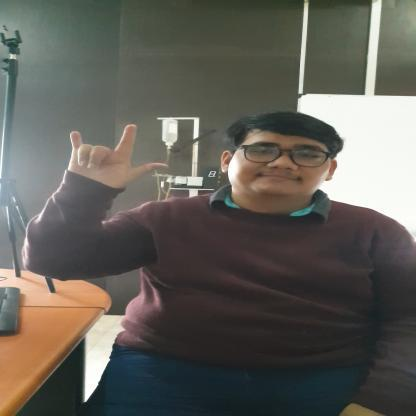ILoveYou: (63, 122, 167, 190)
